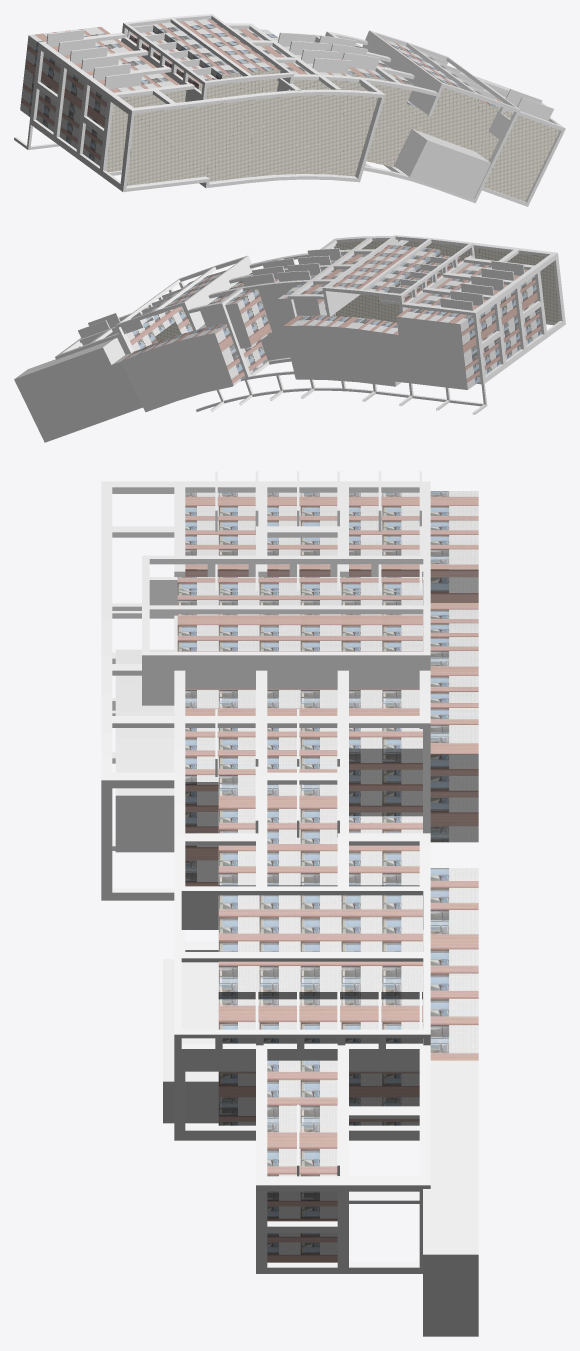
3 renders of one model, top to bottom at view 1: azimuth 30°, elevation 25°; view 2: azimuth 150°, elevation 25°; view 3: azimuth 270°, elevation 25°, orthographic. The views are drawn at different scales.
Visible parts, largest first — view 1: 教师宿舍 5.8, 教师宿舍 5.2, 教师宿舍 5.6, 教师宿舍 5.1, 教师宿舍 5.5, 教师宿舍 5.4, 教师宿舍 5.7, 教师宿舍 5.3; view 2: 教师宿舍 5.8, 教师宿舍 5.4, 教师宿舍 5.6, 教师宿舍 5.1, 教师宿舍 5.5, 教师宿舍 5.7, 教师宿舍 5.2, 教师宿舍 5.3; view 3: 教师宿舍 5.8, 教师宿舍 5.1, 教师宿舍 5.4, 教师宿舍 5.6, 教师宿舍 5.7, 教师宿舍 5.5.
Part boxes in pixels (left/top/right/bottom): 教师宿舍 5.8: left=20, top=19, right=559, bottom=201; 教师宿舍 5.2: left=126, top=95, right=377, bottom=185; 教师宿舍 5.6: left=29, top=23, right=565, bottom=206; 教师宿舍 5.1: left=121, top=14, right=520, bottom=142; 教师宿舍 5.5: left=46, top=24, right=553, bottom=120; 教师宿舍 5.4: left=394, top=71, right=545, bottom=199; 教师宿舍 5.7: left=32, top=25, right=561, bottom=189; 教师宿舍 5.3: left=14, top=124, right=59, bottom=149; 教师宿舍 5.8: left=82, top=245, right=541, bottom=412; 教师宿舍 5.4: left=14, top=338, right=142, bottom=442; 教师宿舍 5.6: left=55, top=236, right=565, bottom=384; 教师宿舍 5.1: left=115, top=235, right=474, bottom=353; 教师宿舍 5.5: left=78, top=248, right=524, bottom=338; 教师宿舍 5.7: left=58, top=238, right=562, bottom=382; 教师宿舍 5.2: left=335, top=241, right=559, bottom=322; 教师宿舍 5.3: left=196, top=371, right=487, bottom=414; 教师宿舍 5.8: left=177, top=491, right=478, bottom=1262; 教师宿舍 5.1: left=142, top=555, right=430, bottom=1071; 教师宿舍 5.4: left=115, top=649, right=478, bottom=1336; 教师宿舍 5.6: left=101, top=481, right=430, bottom=1273; 教师宿舍 5.7: left=112, top=481, right=419, bottom=1273; 教师宿舍 5.5: left=215, top=471, right=421, bottom=1176.
Size of the model in its own units: 85.78 by 41.15 by 30.48.
Materials: 4 (2 with a texture image).
